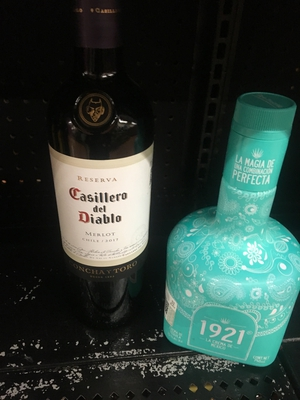casillero del diablo merlot: (51, 31, 162, 341)
